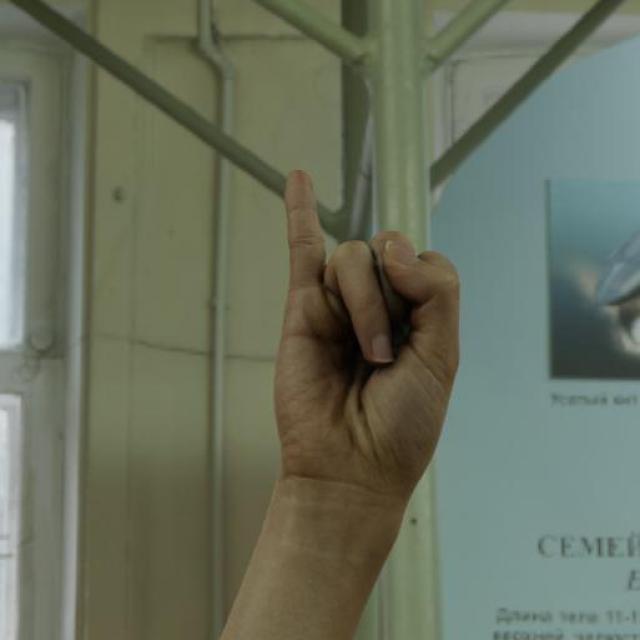I: (270, 163, 464, 507)
